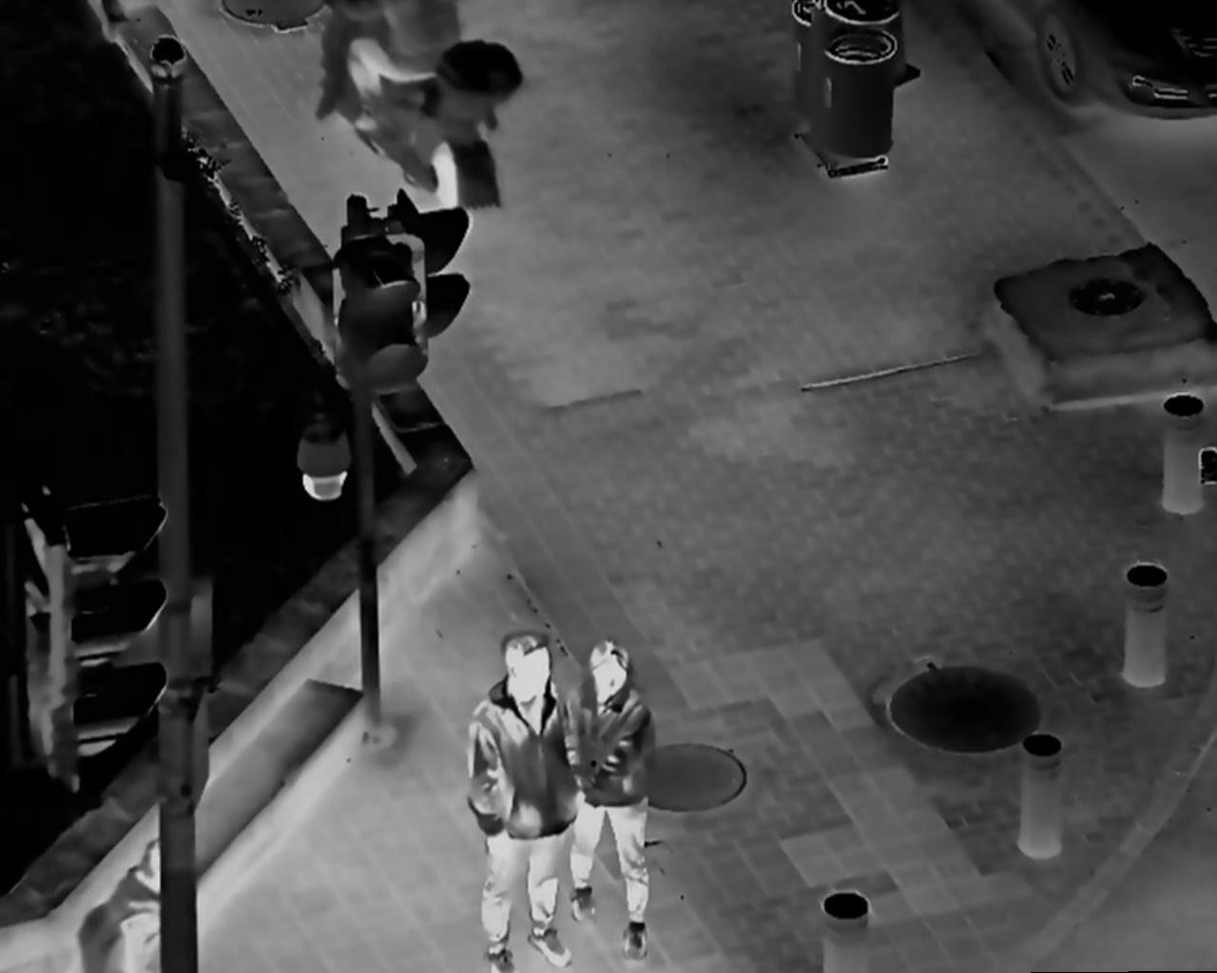person: (454, 630, 577, 973), (558, 639, 674, 963), (63, 830, 166, 973)
